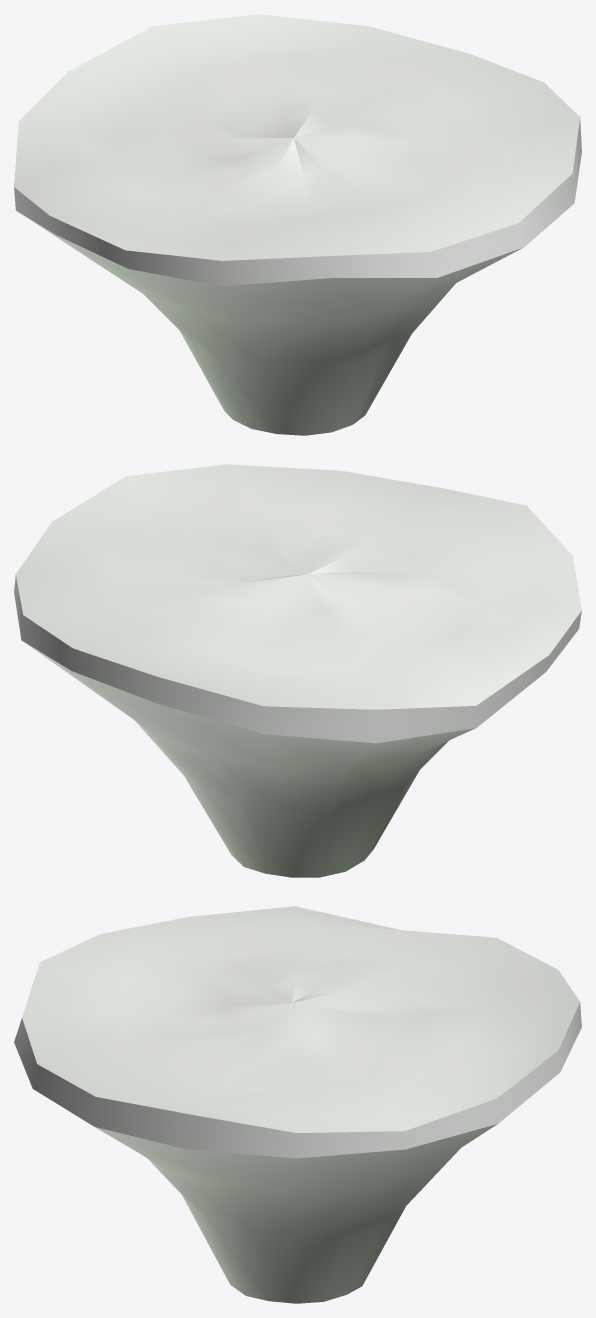
File: coral2.glb
3 views of the same model, one above another, from view 1: azimuth 30°, elevation 25°; view 2: azimuth 150°, elevation 25°; view 3: azimuth 270°, elevation 25° (orthographic).
Visible parts, largest first — view 1: Cylinder.007; view 2: Cylinder.007; view 3: Cylinder.007.
Boxes of the visible parts, x1,y1,x2,y2 form: Cylinder.007: [14, 14, 581, 435]; Cylinder.007: [14, 464, 581, 877]; Cylinder.007: [14, 906, 581, 1303].
Size of the model in its own units: 1.77 by 0.9416 by 1.78.
Materials: 1 (1 with a texture image).
